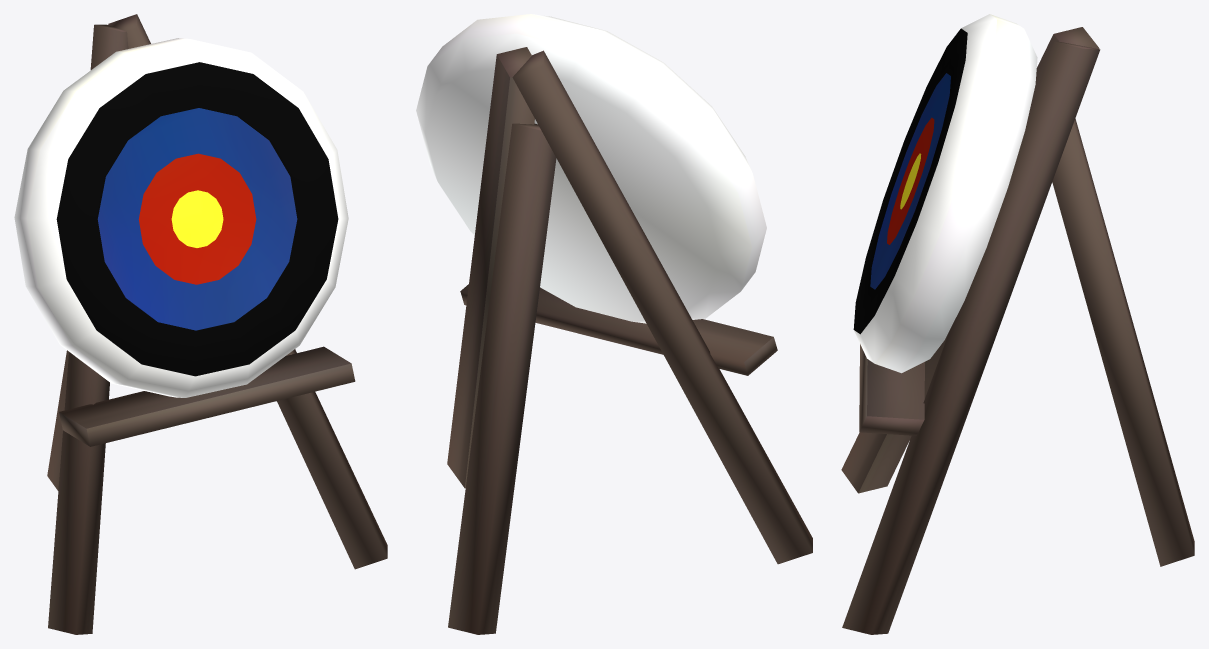
Rendered from ArcheryRangeTarget.glb.
The picture shows the model from 3 angles, left to right: view 1: azimuth 30°, elevation 25°; view 2: azimuth 150°, elevation 25°; view 3: azimuth 270°, elevation 25°; orthographic projection. The views are drawn at different scales.
Visible parts, largest first — view 1: ArcheryRangeTarget; view 2: ArcheryRangeTarget; view 3: ArcheryRangeTarget.
Boxes of the visible parts, x1,y1,x2,y2 form: ArcheryRangeTarget: (14, 14, 387, 634); ArcheryRangeTarget: (416, 14, 812, 634); ArcheryRangeTarget: (841, 14, 1194, 634).
Size of the model in its own units: 1.04 by 1.48 by 0.8984.
1 material, 1 textured.
